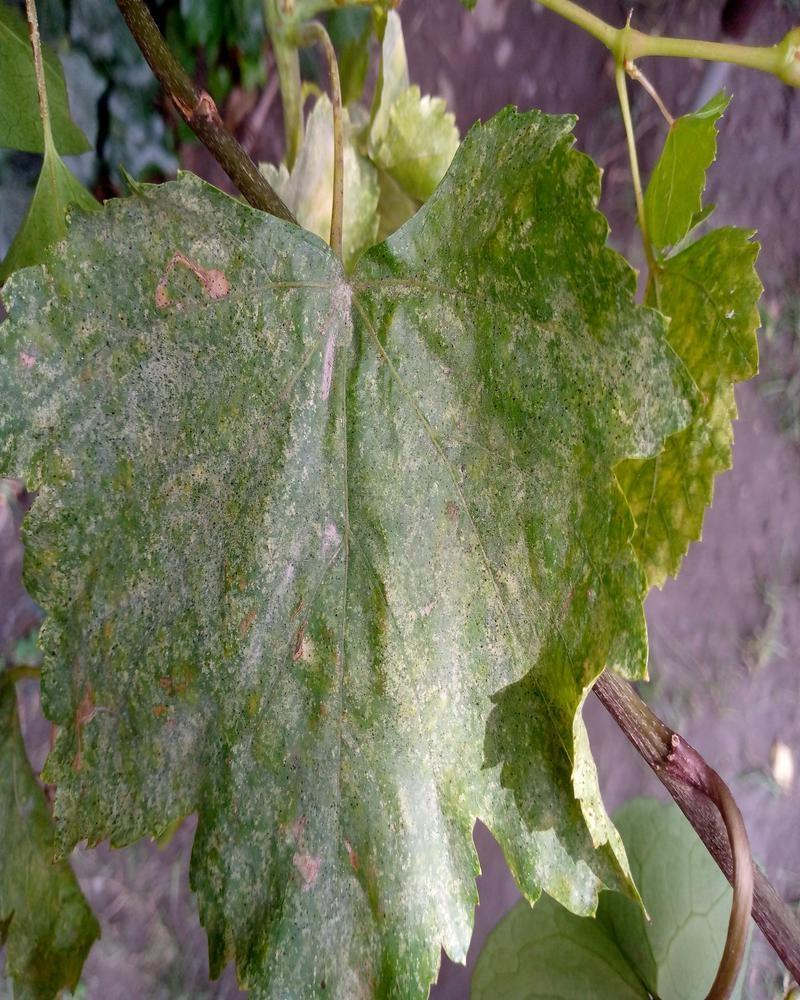Powdery-Mildew: (367, 543, 617, 951), (234, 253, 444, 678), (513, 252, 678, 457), (66, 461, 238, 626), (186, 707, 324, 860), (264, 869, 393, 990), (128, 226, 281, 327), (59, 685, 135, 806), (26, 333, 89, 396), (175, 431, 238, 494)
